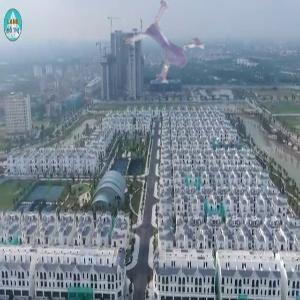drone: (124, 3, 221, 100)
